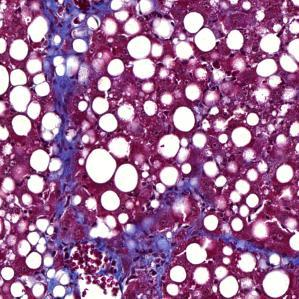fibrosis: (80, 221, 181, 282), (43, 25, 92, 126)
